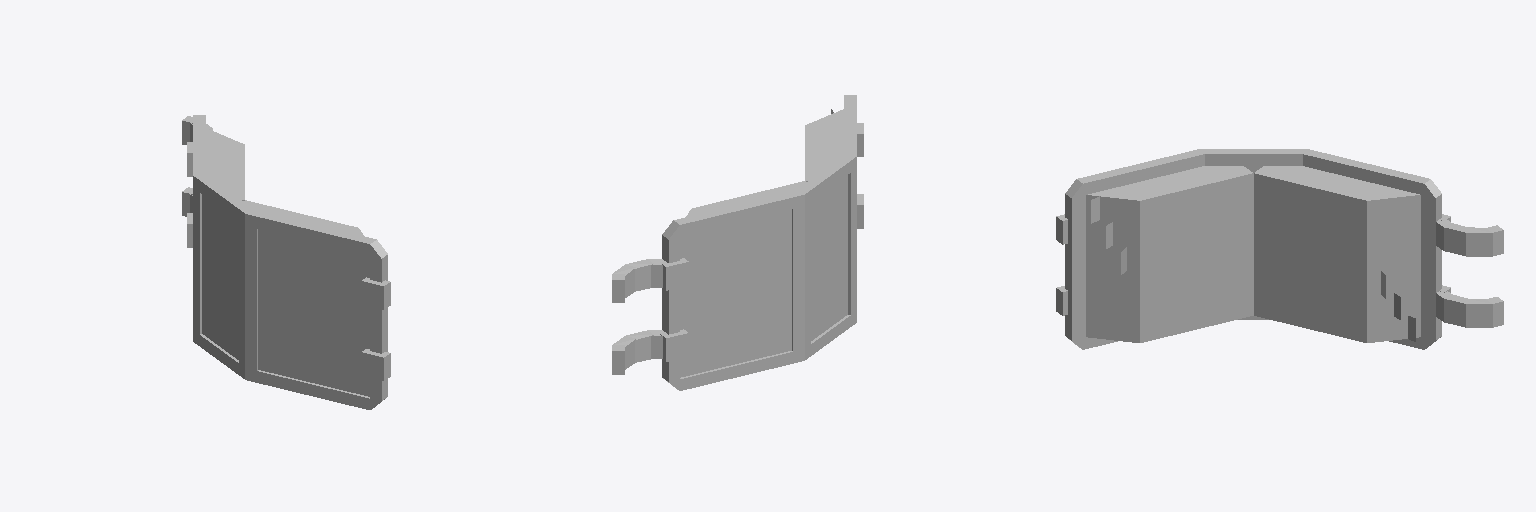
File: codexarcana_open.obj
3 renders of one model, left to right at view 1: azimuth 30°, elevation 25°; view 2: azimuth 150°, elevation 25°; view 3: azimuth 270°, elevation 25°, orthographic.
Parts seen in each view (by area): view 1: COVER_RIGHT_OPEN_Cube.015, SPINE_OPEN_Cube.016, PAGES_LEFT_OPEN_Cube.018, COVER_LEFT_OPEN_Cube.017, PAGES_RIGHT_OPEN_Cube.006, COVER_STRAPS_Cube.019; view 2: COVER_LEFT_OPEN_Cube.017, SPINE_OPEN_Cube.016, COVER_STRAPS_Cube.019, PAGES_RIGHT_OPEN_Cube.006, COVER_RIGHT_OPEN_Cube.015, PAGES_LEFT_OPEN_Cube.018; view 3: PAGES_RIGHT_OPEN_Cube.006, PAGES_LEFT_OPEN_Cube.018, COVER_RIGHT_OPEN_Cube.015, COVER_LEFT_OPEN_Cube.017, COVER_STRAPS_Cube.019, SPINE_OPEN_Cube.016.
Boxes of the visible parts, box(x1,y1,x2,y2) form: COVER_RIGHT_OPEN_Cube.015: box(245, 209, 390, 409); SPINE_OPEN_Cube.016: box(193, 173, 255, 378); PAGES_LEFT_OPEN_Cube.018: box(206, 128, 244, 200); COVER_LEFT_OPEN_Cube.017: box(187, 115, 205, 247); PAGES_RIGHT_OPEN_Cube.006: box(244, 200, 363, 235); COVER_STRAPS_Cube.019: box(182, 116, 212, 216); COVER_LEFT_OPEN_Cube.017: box(660, 190, 804, 390); SPINE_OPEN_Cube.016: box(794, 155, 856, 359); COVER_STRAPS_Cube.019: box(612, 259, 664, 374); PAGES_RIGHT_OPEN_Cube.006: box(805, 109, 843, 181); COVER_RIGHT_OPEN_Cube.015: box(844, 95, 863, 228); PAGES_LEFT_OPEN_Cube.018: box(686, 181, 805, 216); PAGES_RIGHT_OPEN_Cube.006: box(1086, 166, 1253, 342); PAGES_LEFT_OPEN_Cube.018: box(1254, 166, 1420, 342); COVER_RIGHT_OPEN_Cube.015: box(1056, 149, 1204, 349); COVER_LEFT_OPEN_Cube.017: box(1303, 149, 1450, 349); COVER_STRAPS_Cube.019: box(1436, 220, 1503, 327); SPINE_OPEN_Cube.016: box(1201, 149, 1305, 319).
Size of the model in its own units: 0.5494 by 0.875 by 2.14.